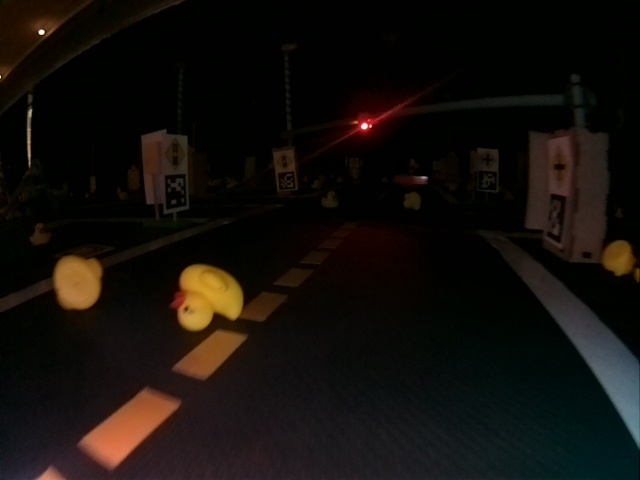Duckie: (177, 268, 243, 331), (56, 257, 101, 309), (603, 242, 633, 275), (30, 228, 48, 245), (404, 192, 420, 209), (322, 191, 338, 205)
Intersection sign: (549, 144, 569, 188), (479, 149, 496, 169)
QR code: (163, 174, 188, 209), (547, 198, 566, 241), (480, 173, 498, 191), (278, 171, 296, 188)
Signal sign: (163, 136, 186, 169), (275, 152, 293, 167)
